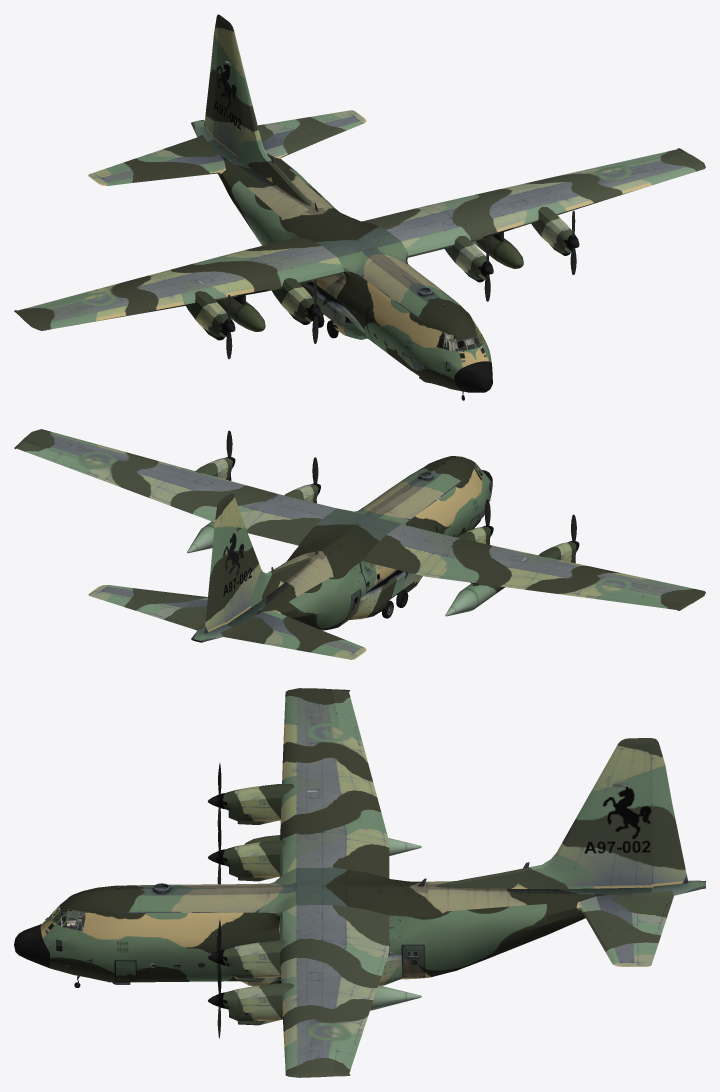
File: lockheed_c-130_hercules.glb
3 renders of one model, top to bottom at view 1: azimuth 30°, elevation 25°; view 2: azimuth 150°, elevation 25°; view 3: azimuth 270°, elevation 25°, orthographic. The views are drawn at different scales.
Visible parts, largest first — view 1: c130_0; view 2: c130_0; view 3: c130_0.
Boxes of the visible parts, x1=… form: c130_0: x1=14, y1=14, x2=705, y2=400; c130_0: x1=14, y1=429, x2=705, y2=659; c130_0: x1=14, y1=688, x2=705, y2=1077.
Bounding box in the file's own units: 39.76 × 11.82 × 29.81.
Materials: 12 (12 with a texture image).
